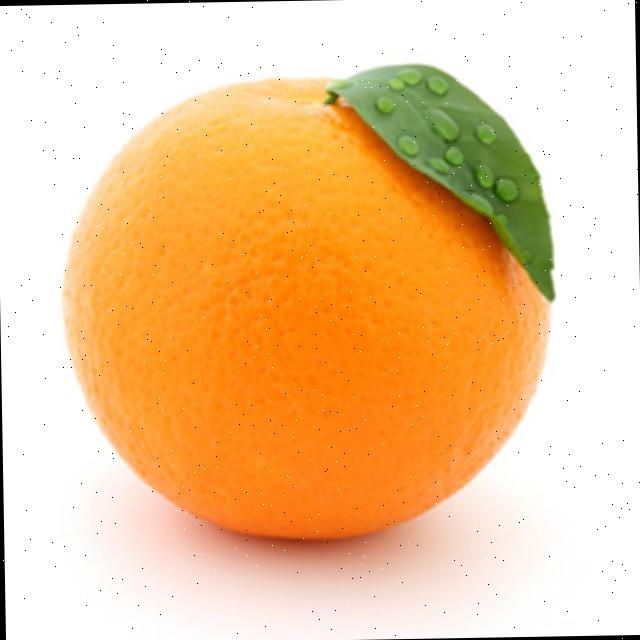Jeruk: (58, 59, 560, 546)
